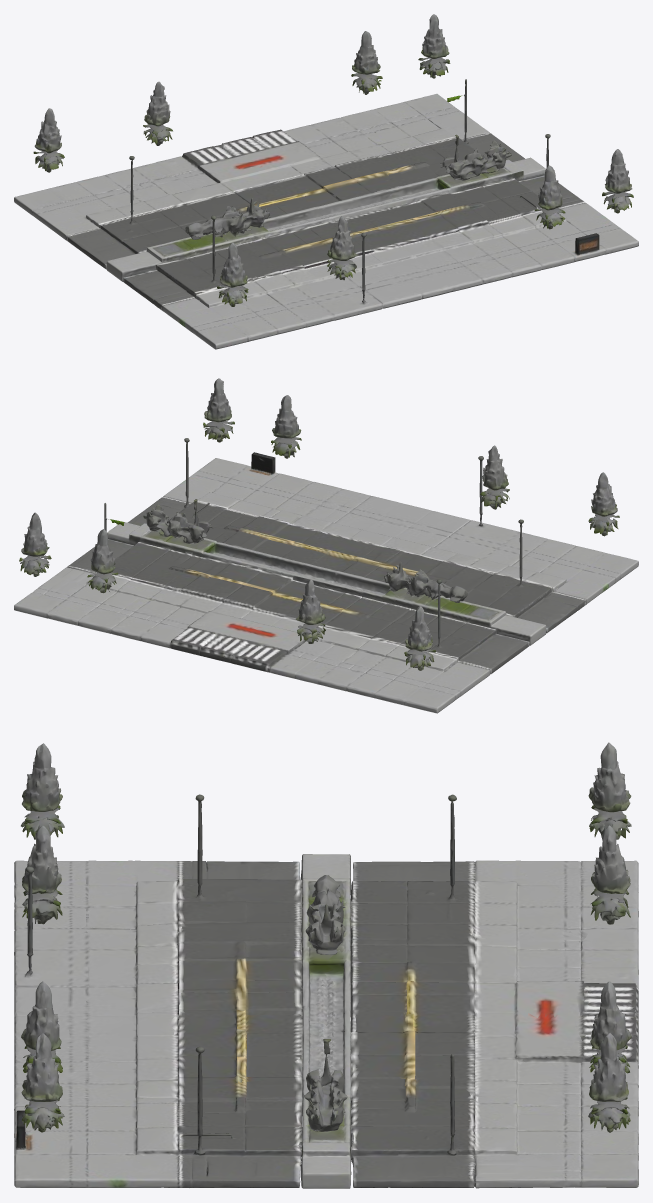
The model's file is city+street+3d+model copy.glb.
3 renders of one model, top to bottom at view 1: azimuth 30°, elevation 25°; view 2: azimuth 150°, elevation 25°; view 3: azimuth 270°, elevation 25°, orthographic. The views are drawn at different scales.
Parts seen in each view (by area): view 1: tripo_node_9dd510e8-1b52-40da-9984-0087aa40019f; view 2: tripo_node_9dd510e8-1b52-40da-9984-0087aa40019f; view 3: tripo_node_9dd510e8-1b52-40da-9984-0087aa40019f.
Boxes of the visible parts, x1,y1,x2,y2 form: tripo_node_9dd510e8-1b52-40da-9984-0087aa40019f: (14,14,638,349); tripo_node_9dd510e8-1b52-40da-9984-0087aa40019f: (14,378,638,713); tripo_node_9dd510e8-1b52-40da-9984-0087aa40019f: (14,742,638,1188).
Size of the model in its own units: 1 by 0.2135 by 0.8256.
Materials: 1 (1 with a texture image).
